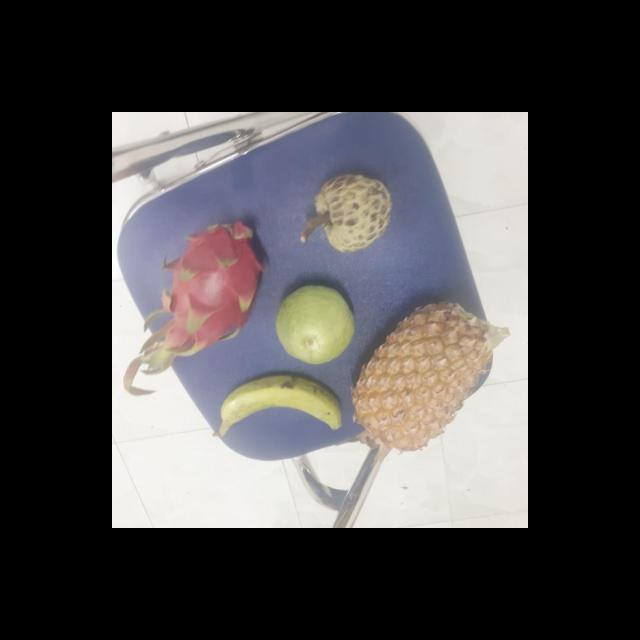Sakya fruit: (309, 174, 397, 252)
banana: (220, 374, 351, 436)
guava: (276, 284, 362, 363)
pineapple: (356, 298, 495, 446)
pitaya: (150, 220, 270, 350)
